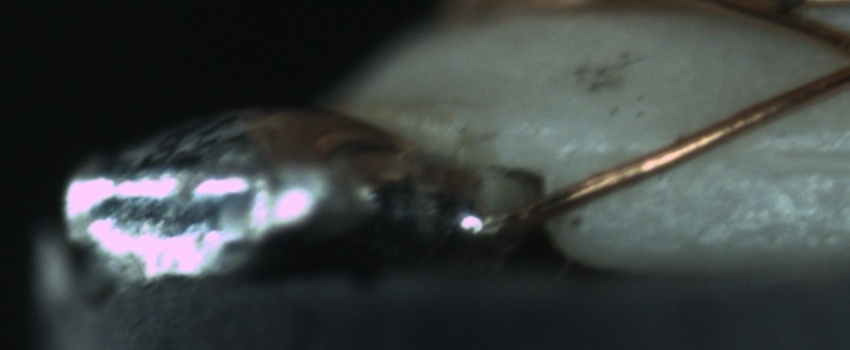DL: (615, 118, 846, 190)
